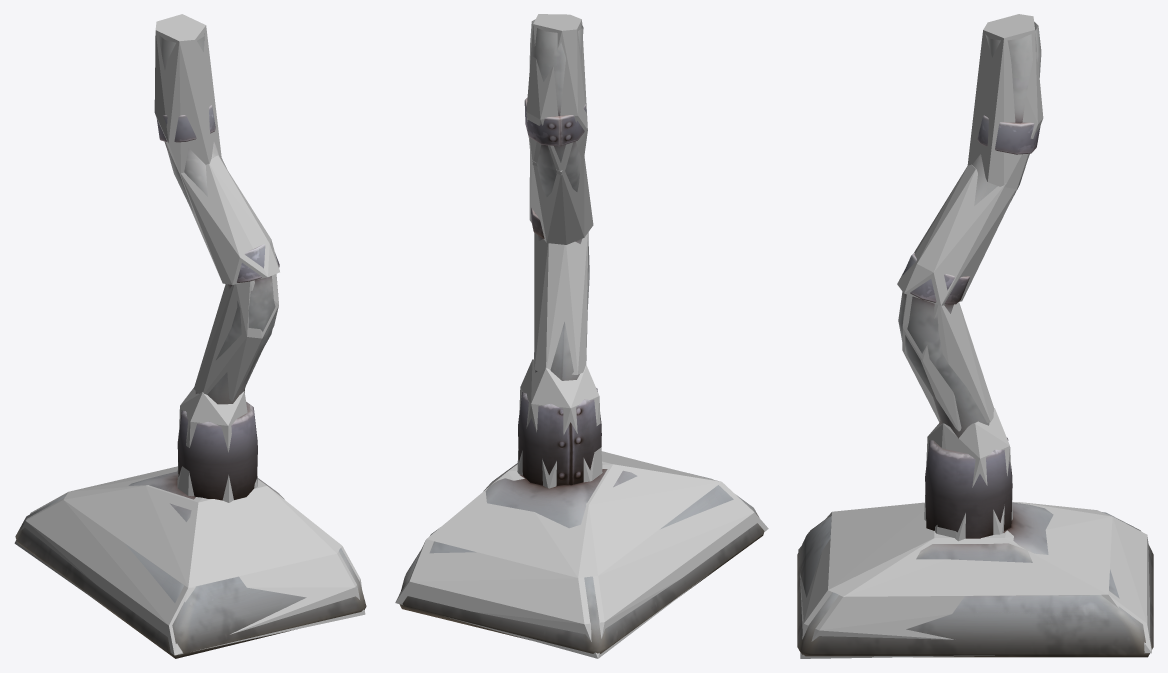
Rendered from SM_KitchenHood01.fbx.
The picture shows the model from 3 angles, left to right: view 1: azimuth 30°, elevation 25°; view 2: azimuth 150°, elevation 25°; view 3: azimuth 270°, elevation 25°; orthographic projection. The views are drawn at different scales.
Visible parts, largest first — view 1: SM_KitchenHood01_ConvexHulls, SM_KitchenHood01; view 2: SM_KitchenHood01_ConvexHulls, SM_KitchenHood01; view 3: SM_KitchenHood01_ConvexHulls, SM_KitchenHood01.
Boxes of the visible parts, box(x1,y1,x2,y2) form: SM_KitchenHood01_ConvexHulls: box(14, 14, 365, 655); SM_KitchenHood01: box(15, 33, 366, 658); SM_KitchenHood01_ConvexHulls: box(395, 14, 768, 658); SM_KitchenHood01: box(399, 19, 764, 653); SM_KitchenHood01_ConvexHulls: box(798, 14, 1151, 658); SM_KitchenHood01: box(797, 22, 1153, 657).
Bounding box in the file's own units: 68.22 × 97.27 × 177.
2 materials, 1 textured.
